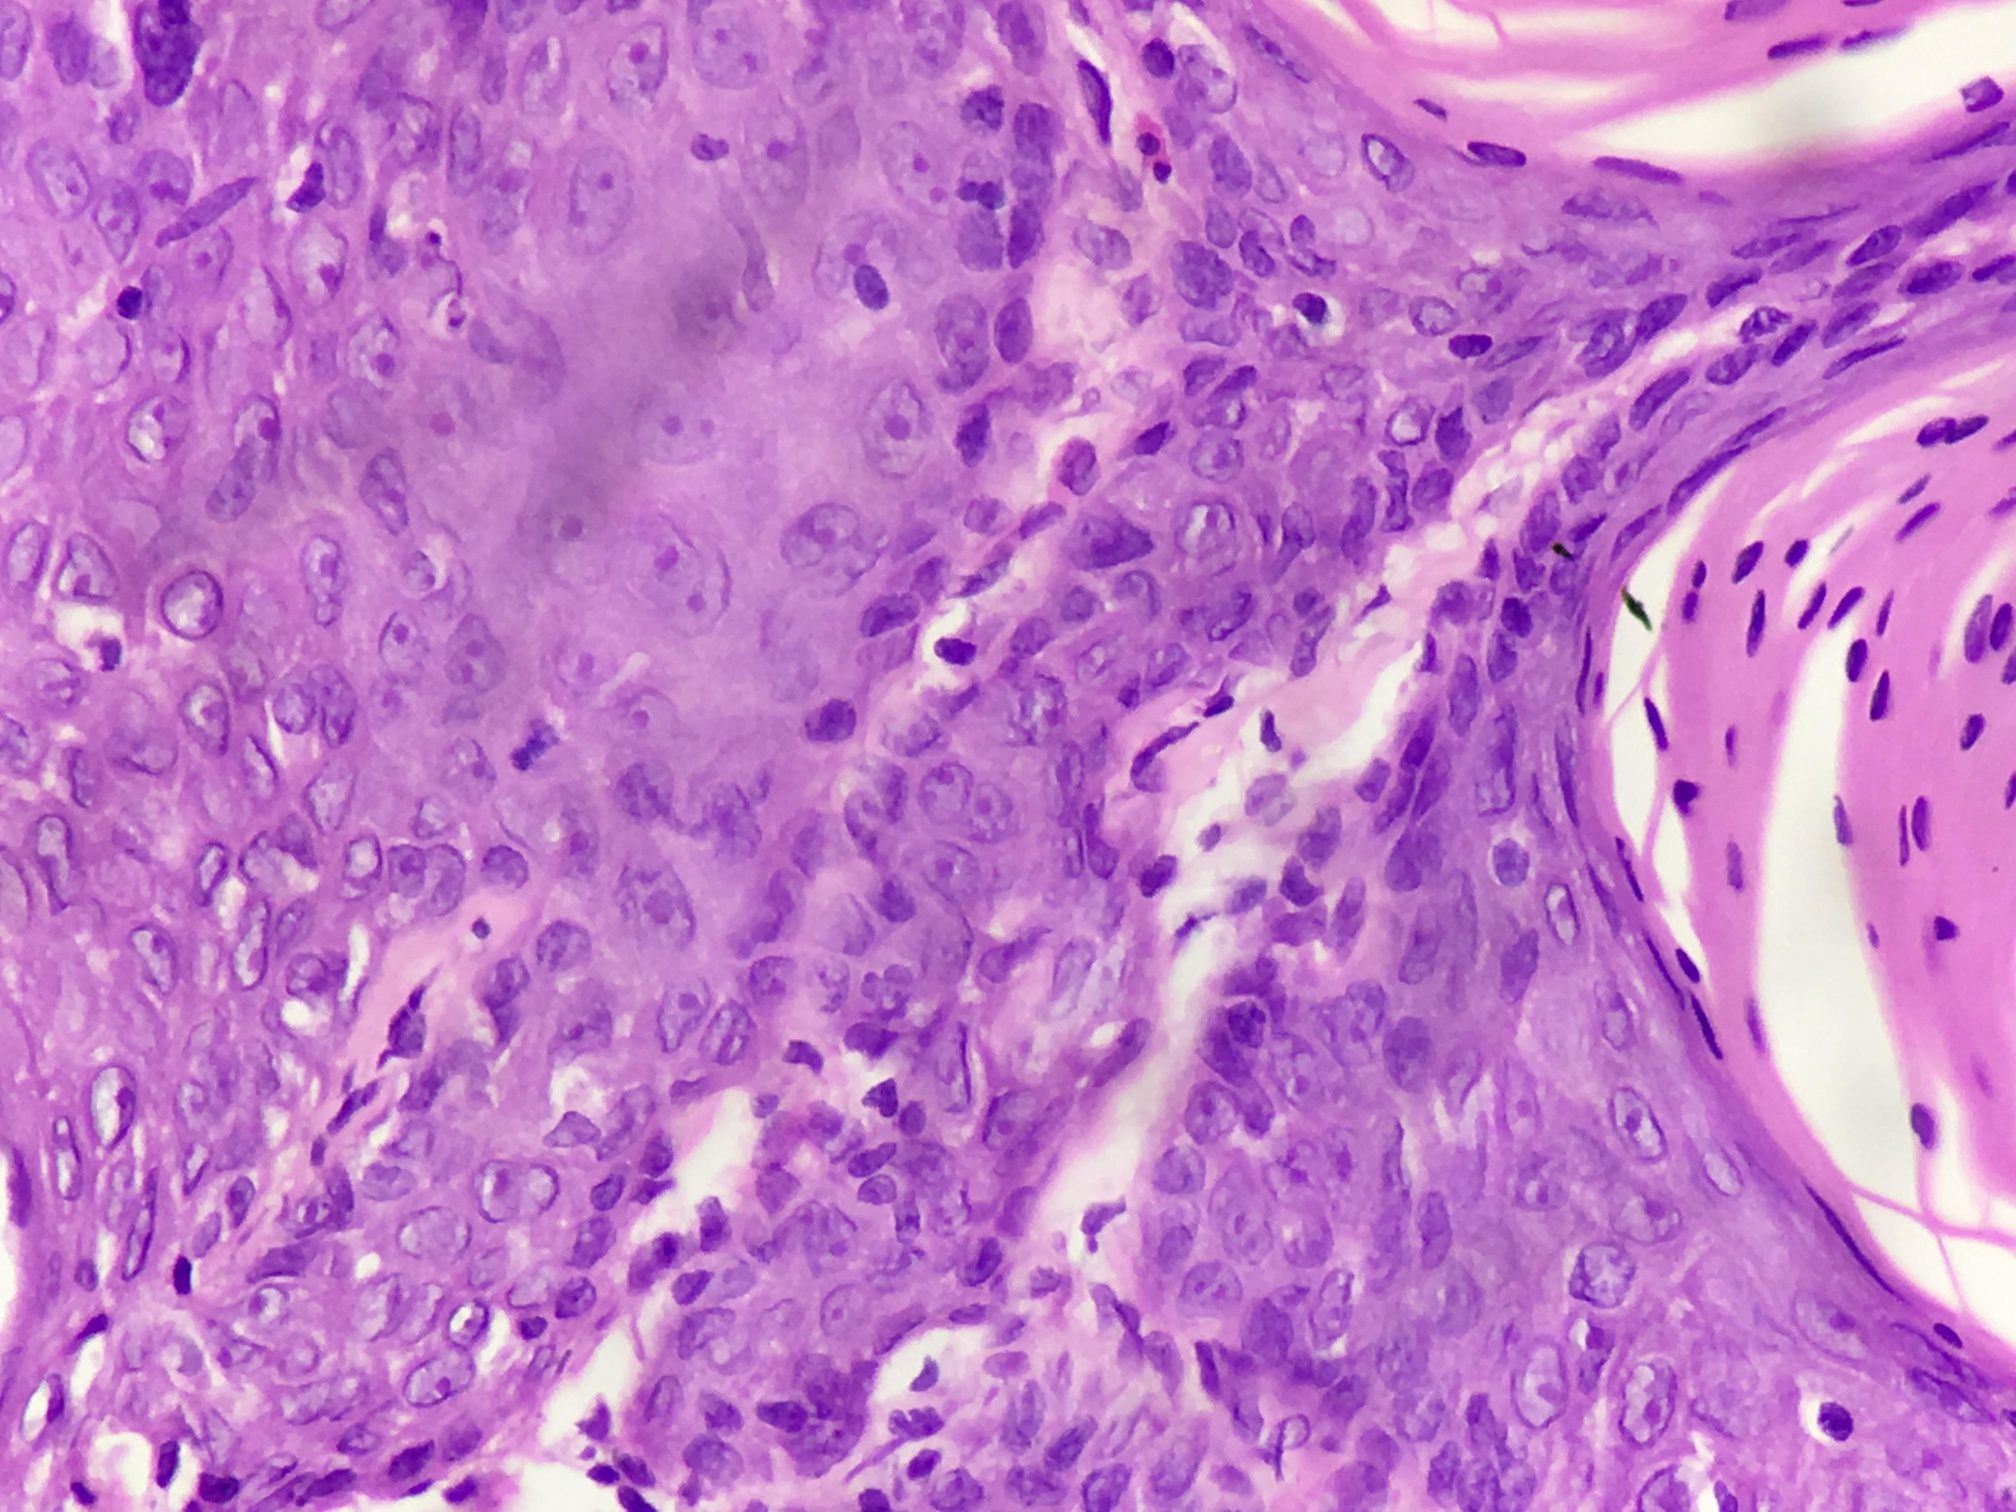mitotic: (486, 700, 592, 823)
